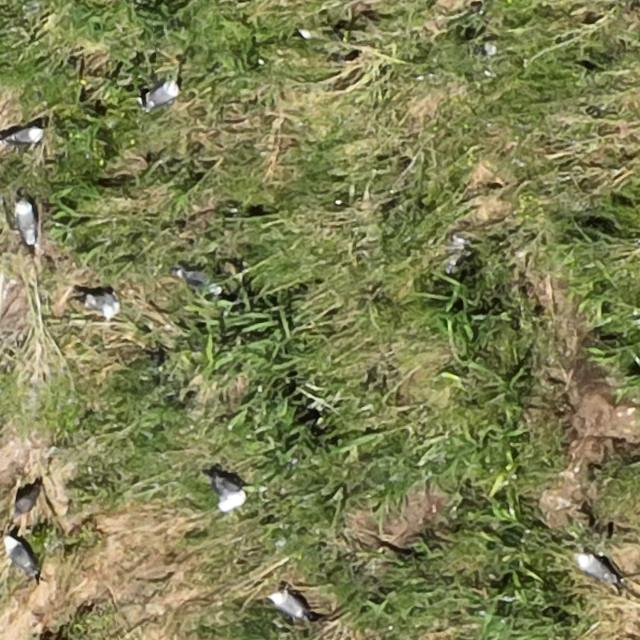umineko: (7, 540, 34, 574), (577, 557, 610, 583), (17, 203, 37, 244), (217, 478, 244, 508), (273, 592, 306, 616), (146, 82, 178, 106), (87, 293, 119, 316), (7, 127, 40, 144)
